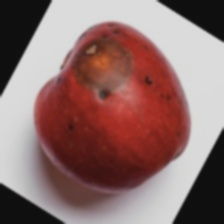apple: (57, 27, 204, 219)
